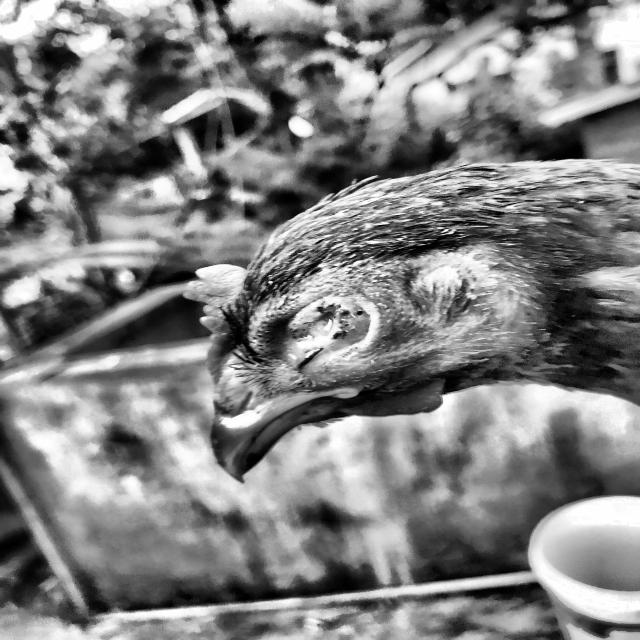Coryza: (140, 70, 617, 552)
